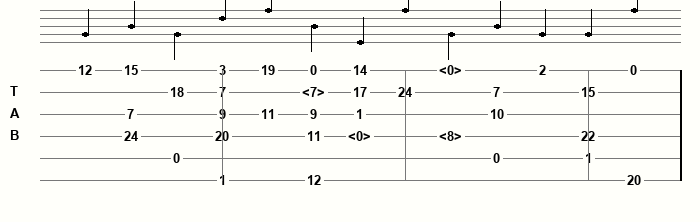0: (173, 151, 184, 165), (310, 63, 321, 77), (493, 151, 504, 165), (630, 63, 641, 77)
1: (219, 173, 230, 187), (356, 107, 367, 121), (585, 151, 596, 165)
10: (490, 107, 508, 121)
11: (261, 107, 279, 121), (307, 129, 325, 143)
12: (78, 63, 96, 77), (307, 173, 325, 187)
14: (353, 63, 371, 77)
15: (124, 63, 142, 77), (581, 85, 599, 99)
17: (353, 85, 371, 99)
18: (170, 85, 188, 99)
19: (261, 63, 279, 77)
2: (539, 63, 550, 77)
20: (215, 129, 233, 143), (627, 173, 645, 187)
22: (581, 129, 599, 143)
24: (124, 129, 142, 143), (398, 85, 416, 99)
3: (219, 63, 230, 77)
7: (127, 107, 138, 121), (219, 85, 230, 99), (493, 85, 504, 99)
9: (219, 107, 230, 121), (310, 107, 321, 121)
harmonic: (302, 85, 329, 99), (348, 129, 375, 143), (439, 129, 466, 143), (439, 63, 466, 77)
